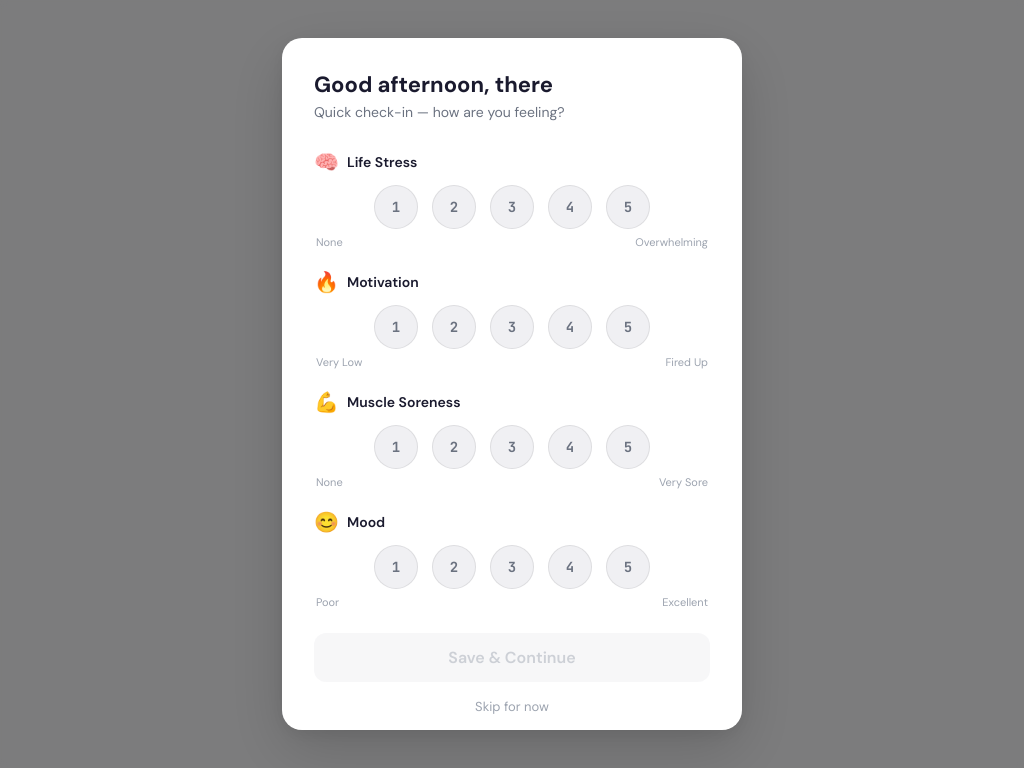
CheckInModal › save button enables when at least 1 value is selected
// Click "Life Stress 3"
Click the button named "Life Stress 3" at (512, 207), box [490,185,534,229]
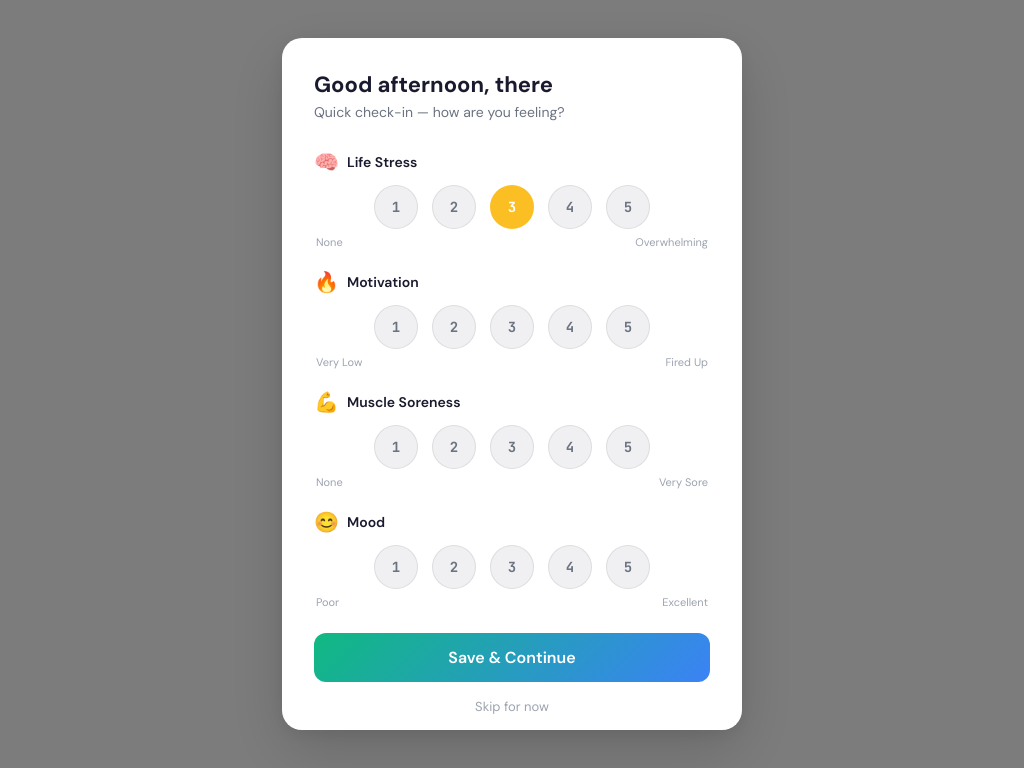
Now the button "Save & Continue" is enabled, box [314,633,710,682]
